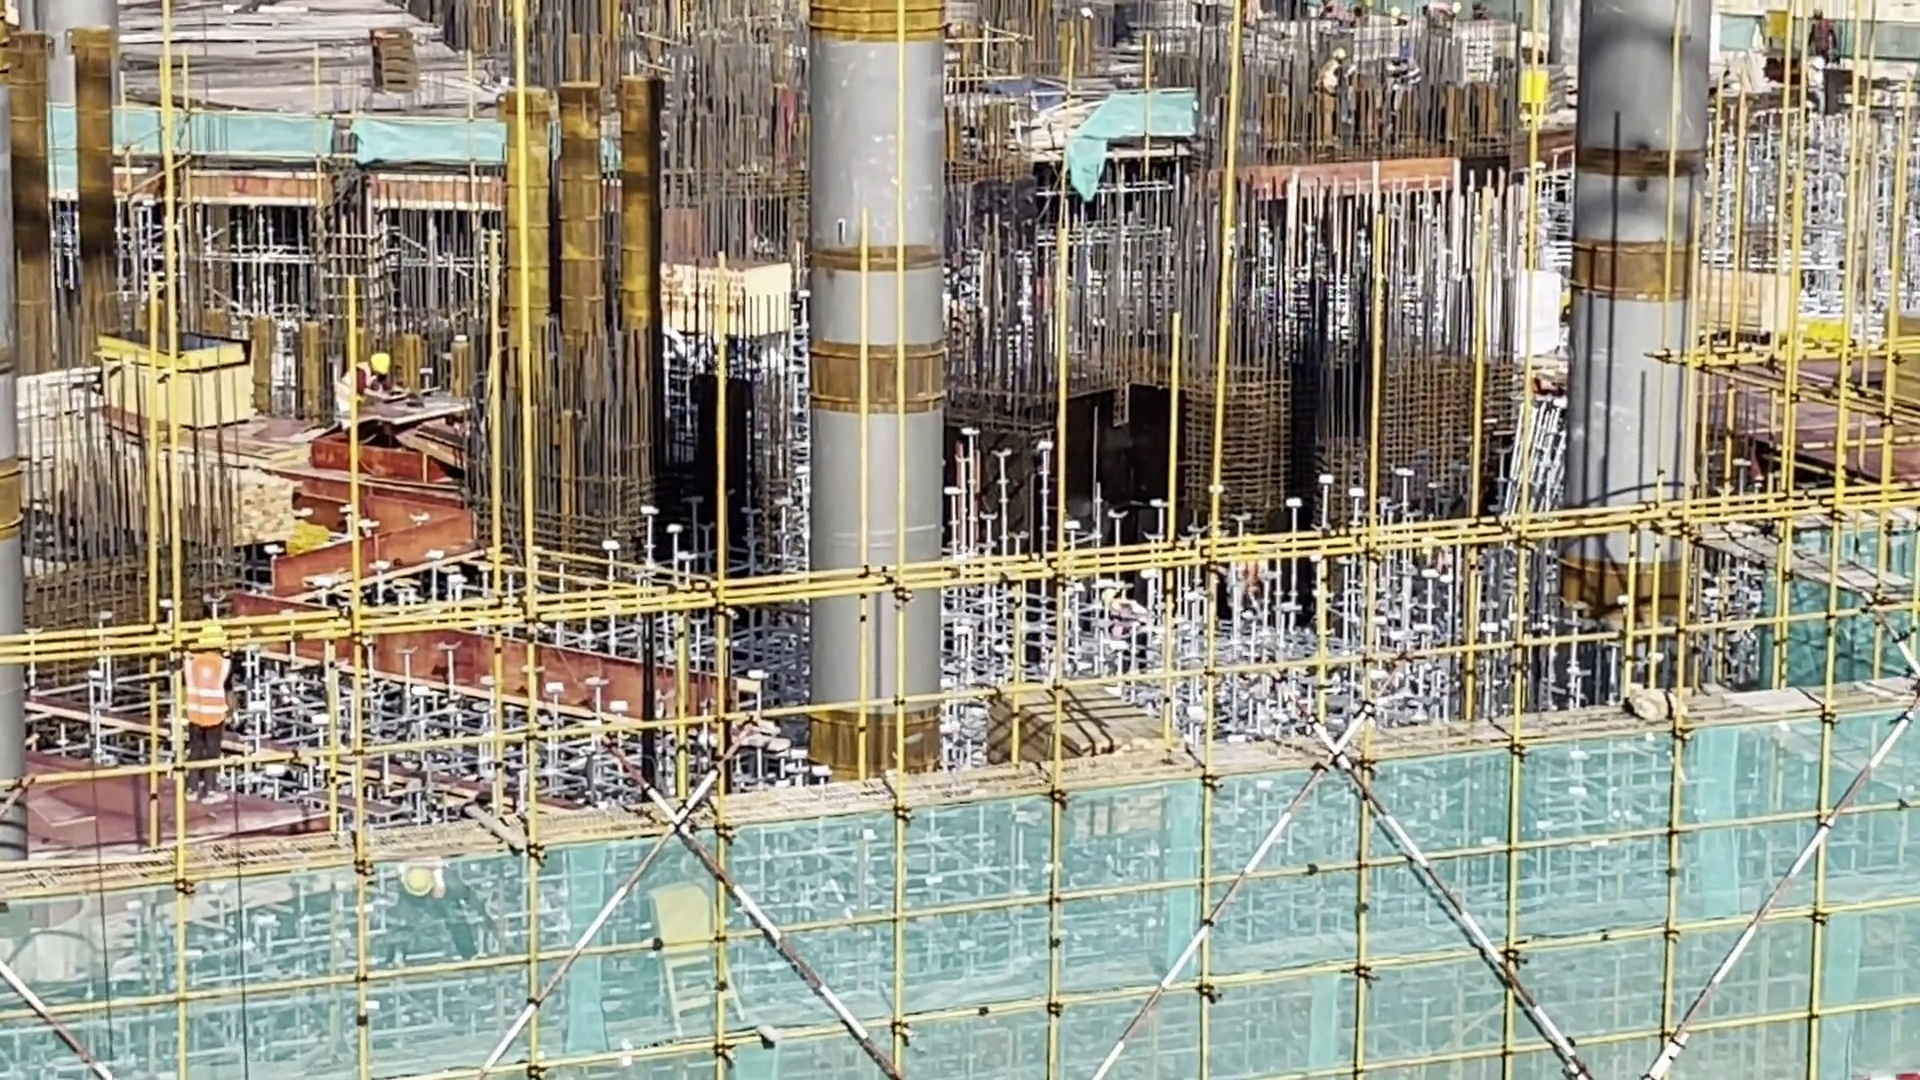helmet: (196, 626, 228, 651), (368, 347, 394, 374), (1103, 586, 1127, 603), (1331, 49, 1354, 62), (1816, 4, 1831, 16), (1401, 49, 1411, 66), (1457, 1, 1466, 12), (1816, 59, 1823, 74)
person: (176, 623, 239, 810), (332, 350, 402, 441), (1106, 570, 1146, 688), (1390, 46, 1433, 144), (1244, 530, 1279, 648), (1319, 35, 1347, 154), (1805, 1, 1850, 65), (1295, 1, 1376, 32), (1427, 1, 1465, 34), (1802, 49, 1824, 107)
vest: (186, 652, 224, 732), (338, 371, 374, 417), (1231, 559, 1261, 613), (1124, 602, 1149, 651), (1318, 59, 1345, 93), (1402, 60, 1422, 94), (1815, 15, 1832, 52), (1807, 63, 1822, 98), (1432, 2, 1461, 21), (1336, 6, 1348, 26)
